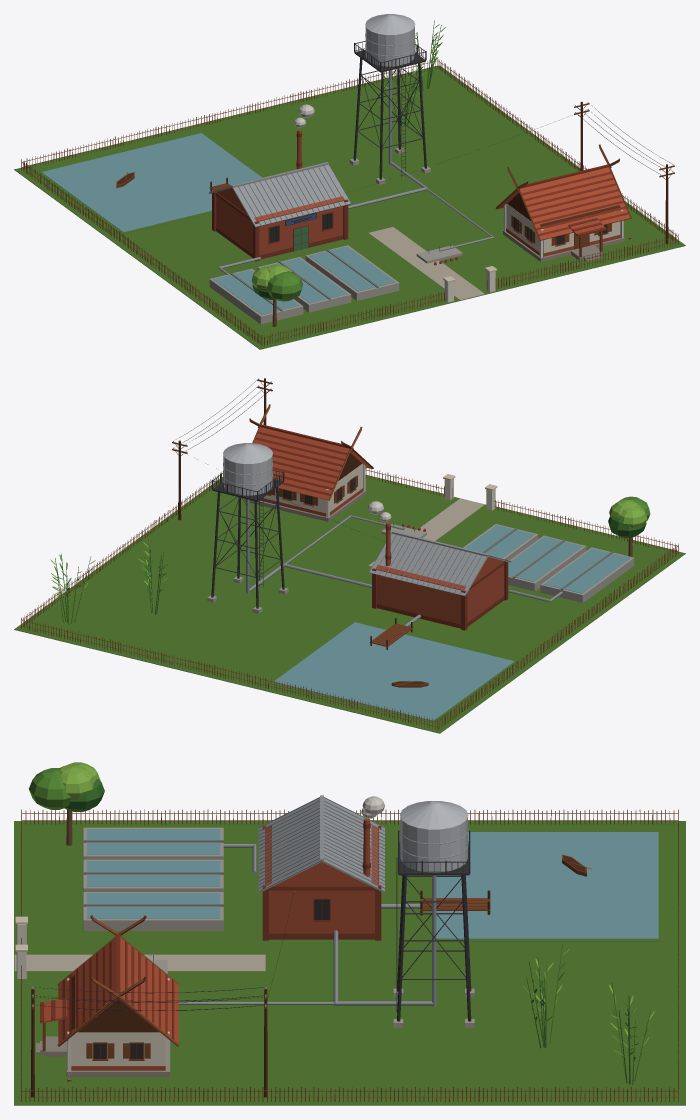
Rendered from water_works.glb.
The picture shows the model from 3 angles, top to bottom: view 1: azimuth 30°, elevation 25°; view 2: azimuth 150°, elevation 25°; view 3: azimuth 270°, elevation 25°; orthographic projection. The views are drawn at different scales.
Visible parts, largest first — view 1: body, windows; view 2: body; view 3: body, windows.
Part boxes in pixels (<box>): body: <box>14,14,685,349</box>; windows: <box>269,212,607,244</box>; body: <box>14,378,685,733</box>; body: <box>14,762,685,1105</box>; windows: <box>94,899,329,1058</box>.
Bounding box in the file's own units: 47.9 × 16.66 × 47.9.
